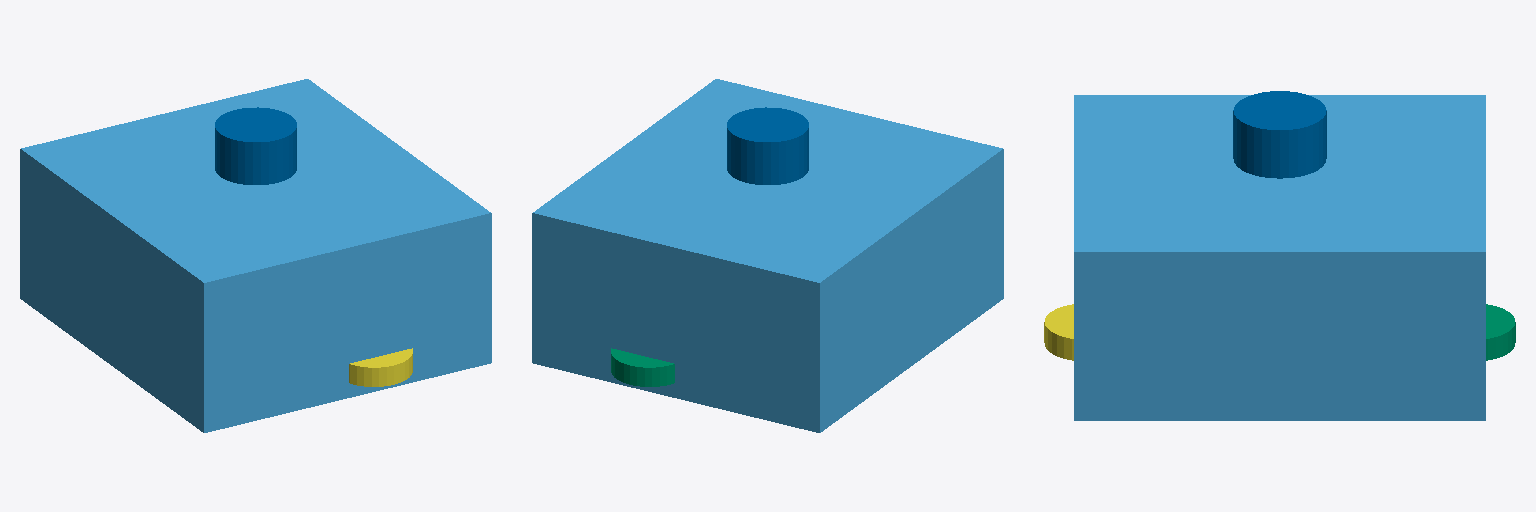
robot.urdf — turtlebot3_waffle:
<robot name="turtlebot3_waffle">
  
  <link name="base_footprint" />

  
  <link name="base_link">
    <visual>
      <geometry>
        <box size="0.28 0.31 0.14" />
      </geometry>
      <origin xyz="-0.032 0 0.07" />
    </visual>
    <collision>
      <geometry>
        <box size="0.28 0.31 0.14" />
      </geometry>
      <origin xyz="-0.032 0 0.07" />
    </collision>
    <inertial>
      <mass value="1.37" />
      <origin xyz="0 0 0" />
      <inertia ixx="0.0087" ixy="0" ixz="0" iyy="0.0086" iyz="0" izz="0.0146" />
    </inertial>
  </link>

  
  <joint name="base_joint" type="fixed">
    <parent link="base_footprint" />
    <child link="base_link" />
    <origin xyz="0 0 0" rpy="0 0 0" />
  </joint>

  
  <link name="wheel_left_link">
    <visual>
      <geometry>
        <cylinder length="0.018" radius="0.033" />
      </geometry>
      <origin xyz="0 0 0" rpy="1.57 0 0" />
    </visual>
    <collision>
      <geometry>
        <cylinder length="0.018" radius="0.033" />
      </geometry>
      <origin xyz="0 0 0" rpy="1.57 0 0" />
    </collision>
    <inertial>
      <mass value="0.028" />
      <origin xyz="0 0 0" />
      <inertia ixx="1.1e-5" ixy="0" ixz="0" iyy="1.1e-5" iyz="0" izz="2.1e-5" />
    </inertial>
  </link>

  <joint name="wheel_left_joint" type="continuous">
    <parent link="base_link" />
    <child link="wheel_left_link" />
    <origin xyz="0 0.144 0.023" rpy="-1.57 0 0" />
    <axis xyz="0 0 1" />
  </joint>

  
  <link name="wheel_right_link">
    <visual>
      <geometry>
        <cylinder length="0.018" radius="0.033" />
      </geometry>
      <origin xyz="0 0 0" rpy="1.57 0 0" />
    </visual>
    <collision>
      <geometry>
        <cylinder length="0.018" radius="0.033" />
      </geometry>
      <origin xyz="0 0 0" rpy="1.57 0 0" />
    </collision>
    <inertial>
      <mass value="0.028" />
      <origin xyz="0 0 0" />
      <inertia ixx="1.1e-5" ixy="0" ixz="0" iyy="1.1e-5" iyz="0" izz="2.1e-5" />
    </inertial>
  </link>

  <joint name="wheel_right_joint" type="continuous">
    <parent link="base_link" />
    <child link="wheel_right_link" />
    <origin xyz="0 -0.144 0.023" rpy="-1.57 0 0" />
    <axis xyz="0 0 1" />
  </joint>

  
  <link name="base_scan">
    <visual>
      <geometry>
        <cylinder length="0.04" radius="0.035" />
      </geometry>
      <origin xyz="0 0 0" />
    </visual>
    <collision>
      <geometry>
        <cylinder length="0.04" radius="0.035" />
      </geometry>
      <origin xyz="0 0 0" />
    </collision>
    <inertial>
      <mass value="0.125" />
      <origin xyz="0 0 0" />
      <inertia ixx="0.001" ixy="0" ixz="0" iyy="0.001" iyz="0" izz="0.001" />
    </inertial>
  </link>

  <joint name="scan_joint" type="fixed">
    <parent link="base_link" />
    <child link="base_scan" />
    <origin xyz="-0.032 0 0.172" rpy="0 0 0" />
  </joint>

  
  <link name="camera_link" />
  <joint name="camera_joint" type="fixed">
    <parent link="base_link" />
    <child link="camera_link" />
    <origin xyz="0.11 0 0.15" rpy="0 0 0" />
  </joint>
  <link name="camera_color_optical_frame" />
  <joint name="camera_color_optical_joint" type="fixed">
    <parent link="camera_link" />
    <child link="camera_color_optical_frame" />
    <origin xyz="0 0 0" rpy="-1.57079632679 0 -1.57079632679" />
  </joint>
<link name="lidar_frame" /><joint name="lidar_sensor_joint" type="fixed"><parent link="base_scan" /><child link="lidar_frame" /><origin xyz="0 0 0.01" rpy="0 0 0" /></joint><link name="rear_left_caster">
          <collision><geometry><sphere radius="0.005" /></geometry></collision>
          <visual><geometry><sphere radius="0.005" /></geometry></visual></link><joint name="rear_left_caster_centre" type="fixed">
          <parent link="base_link" /><child link="rear_left_caster" /><origin xyz="-0.14 0.064 -0.005" rpy="0 0 0" /></joint><link name="rear_right_caster">
          <collision><geometry><sphere radius="0.005" /></geometry></collision>
          <visual><geometry><sphere radius="0.005" /></geometry></visual></link><joint name="rear_right_caster_centre" type="fixed">
          <parent link="base_link" /><child link="rear_right_caster" /><origin xyz="-0.14 -0.064 -0.005" rpy="0 0 0" /></joint></robot>

--- Render facts (derived) ---
Views: 3 orthographic renders of the robot side by side, from view 1: azimuth 30°, elevation 25°; view 2: azimuth 150°, elevation 25°; view 3: azimuth 270°, elevation 25°.
Model turtlebot3_waffle with 10 links and 9 joints (2 continuous, 7 fixed), rooted at base_footprint, posed every joint at zero.
Visible links, largest first — view 1: base_link, base_scan, wheel_right_link; view 2: base_link, base_scan, wheel_left_link; view 3: base_link, base_scan, wheel_left_link, wheel_right_link.
Link boxes in pixels (<box>): base_link: <box>20,79,491,432</box>; base_scan: <box>215,107,296,184</box>; wheel_right_link: <box>349,348,412,386</box>; base_link: <box>532,79,1003,432</box>; base_scan: <box>727,107,808,184</box>; wheel_left_link: <box>611,348,674,386</box>; base_link: <box>1074,95,1485,420</box>; base_scan: <box>1233,91,1326,178</box>; wheel_left_link: <box>1486,304,1515,360</box>; wheel_right_link: <box>1044,304,1073,360</box>.
Bounding box of the posed robot: 0.28 × 0.354 × 0.202 m (x, y, z).
Geometry: primitives only (box / cylinder / sphere), no mesh files.
